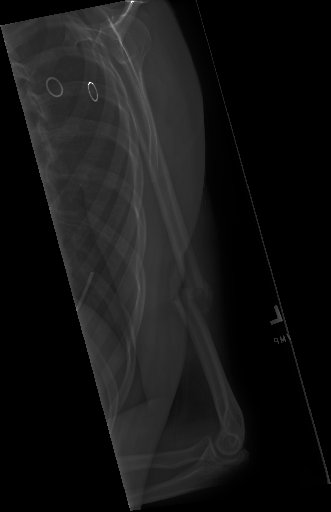fracture: (159, 228, 219, 343)
